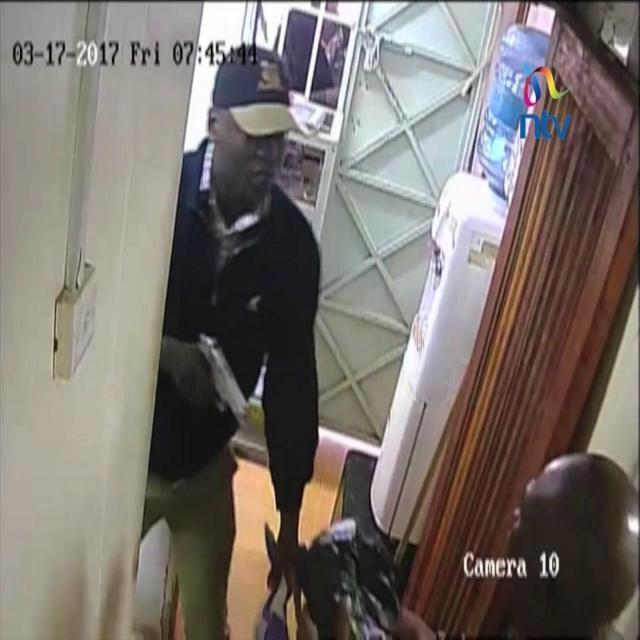gun: (188, 333, 250, 419)
